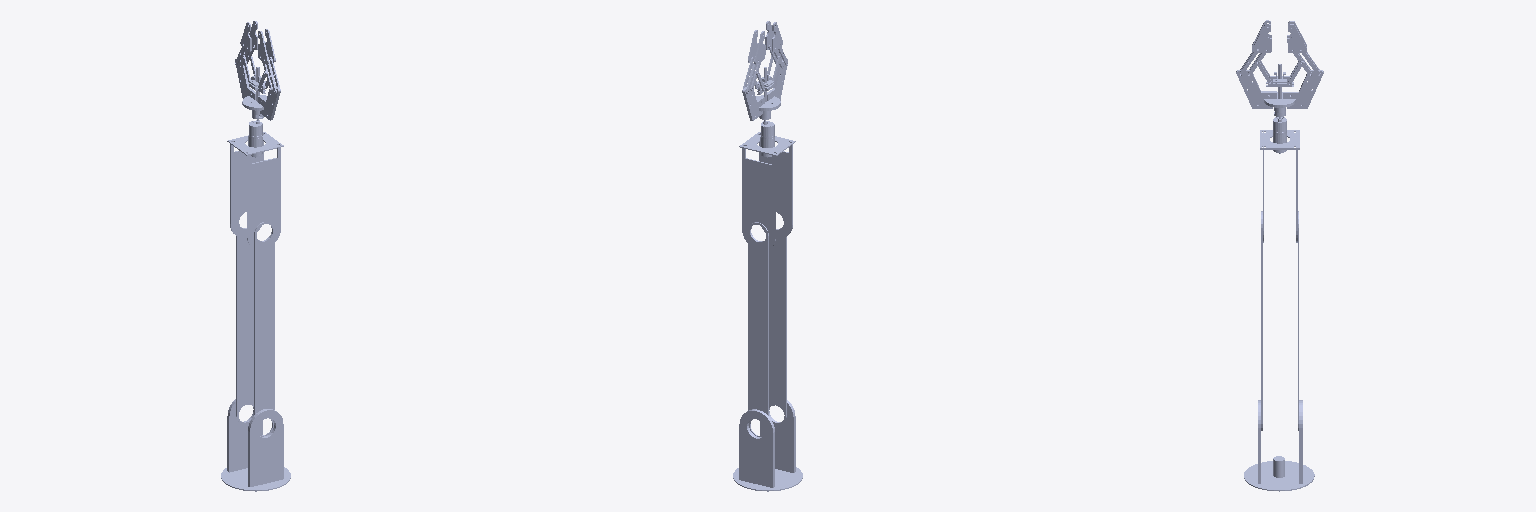
robot.urdf — rover_arm_moveit:

<robot
  name="rover_arm_moveit">
  <link
    name="base_link">
    <inertial>
      <origin
        xyz="-2.7756E-17 0 0.025"
        rpy="0 0 0" />
      <mass
        value="0.035343" />
      <inertia
        ixx="9.3511E-06"
        ixy="0"
        ixz="-2.5612E-38"
        iyy="9.3511E-06"
        iyz="1.1715E-37"
        izz="3.9761E-06" />
    </inertial>
    <visual>
      <origin
        xyz="0 0 0"
        rpy="0 0 0" />
      <geometry>
        <mesh
          filename="package://rover_arm_moveit/meshes/base_link.STL" />
      </geometry>
      <material
        name="">
        <color
          rgba="0.79216 0.81961 0.93333 1" />
      </material>
    </visual>
    <collision>
      <origin
        xyz="0 0 0"
        rpy="0 0 0" />
      <geometry>
        <mesh
          filename="package://rover_arm_moveit/meshes/base_link.STL" />
      </geometry>
    </collision>
  </link>
  <link
    name="link1">
    <inertial>
      <origin
        xyz="-3.747E-15 0.0022773 0.077122"
        rpy="0 0 0" />
      <mass
        value="0.41924" />
      <inertia
        ixx="0.0012798"
        ixy="1.0757E-18"
        ixz="9.3599E-19"
        iyy="0.0015952"
        iyz="3.9689E-19"
        izz="0.00059701" />
    </inertial>
    <visual>
      <origin
        xyz="0 0 0"
        rpy="0 0 0" />
      <geometry>
        <mesh
          filename="package://rover_arm_moveit/meshes/link1.STL" />
      </geometry>
      <material
        name="">
        <color
          rgba="0.79216 0.81961 0.93333 1" />
      </material>
    </visual>
    <collision>
      <origin
        xyz="0 0 0"
        rpy="0 0 0" />
      <geometry>
        <mesh
          filename="package://rover_arm_moveit/meshes/link1.STL" />
      </geometry>
    </collision>
  </link>
  <joint
    name="link1_joint"
    type="revolute">
    <origin
      xyz="0 -0.00021988 0"
      rpy="0 0 0" />
    <parent
      link="base_link" />
    <child
      link="link1" />
    <axis
      xyz="0 0 1" />
    <limit
      lower="-3.2"
      upper="3.2"
      effort="10.5"
      velocity="2.5" />
  </joint>
  <link
    name="link2">
    <inertial>
      <origin
        xyz="-2.8588E-15 -0.046 0.275"
        rpy="0 0 0" />
      <mass
        value="0.1914" />
      <inertia
        ixx="0.0046114"
        ixy="2.0737E-19"
        ixz="2.9287E-20"
        iyy="0.0046708"
        iyz="-3.3087E-22"
        izz="5.9679E-05" />
    </inertial>
    <visual>
      <origin
        xyz="0 0 0"
        rpy="0 0 0" />
      <geometry>
        <mesh
          filename="package://rover_arm_moveit/meshes/link2.STL" />
      </geometry>
      <material
        name="">
        <color
          rgba="0.79216 0.81961 0.93333 1" />
      </material>
    </visual>
    <collision>
      <origin
        xyz="0 0 0"
        rpy="0 0 0" />
      <geometry>
        <mesh
          filename="package://rover_arm_moveit/meshes/link2.STL" />
      </geometry>
    </collision>
  </link>
  <joint
    name="link2_joint"
    type="revolute">
    <origin
      xyz="0 0.04872 0.16"
      rpy="0 0 0" />
    <parent
      link="link1" />
    <child
      link="link2" />
    <axis
      xyz="0 -1 0" />
    <limit
      lower="-3.2"
      upper="3.2"
      effort="10.5"
      velocity="2.5" />
  </joint>
  <link
    name="link3">
    <inertial>
      <origin
        xyz="0.000814999246457893 -0.042709811887764 0.171512812855186"
        rpy="0 0 0" />
      <mass
        value="0.334746404914452" />
      <inertia
        ixx="0.00101227160012089"
        ixy="-1.0571975318945E-08"
        ixz="-5.29394672439346E-07"
        iyy="0.0011805187783924"
        iyz="-1.54971874790944E-12"
        izz="0.000248673620348846" />
    </inertial>
    <visual>
      <origin
        xyz="0 0 0"
        rpy="0 0 0" />
      <geometry>
        <mesh
          filename="package://rover_arm_moveit/meshes/link3.STL" />
      </geometry>
      <material
        name="">
        <color
          rgba="0.792156862745098 0.819607843137255 0.933333333333333 1" />
      </material>
    </visual>
    <collision>
      <origin
        xyz="0 0 0"
        rpy="0 0 0" />
      <geometry>
        <mesh
          filename="package://rover_arm_moveit/meshes/link3.STL" />
      </geometry>
    </collision>
  </link>
  <joint
    name="link3_joint"
    type="revolute">
    <origin
      xyz="0 -0.0035 0.55"
      rpy="0 0 0" />
    <parent
      link="link2" />
    <child
      link="link3" />
    <axis
      xyz="0 1 0" />
    <limit
      lower="-3.2"
      upper="3.2"
      effort="10.5"
      velocity="2.5" />
  </joint>
  <link
    name="link4">
    <inertial>
      <origin
        xyz="9.7368E-08 -0.00021194 0.064976"
        rpy="0 0 0" />
      <mass
        value="0.20212" />
      <inertia
        ixx="0.0001735"
        ixy="-5.5684E-08"
        ixz="1.5788E-19"
        iyy="0.0001153"
        iyz="1.0151E-07"
        izz="7.75E-05" />
    </inertial>
    <visual>
      <origin
        xyz="0 0 0"
        rpy="0 0 0" />
      <geometry>
        <mesh
          filename="package://rover_arm_moveit/meshes/link4.STL" />
      </geometry>
      <material
        name="">
        <color
          rgba="0.79216 0.81961 0.93333 1" />
      </material>
    </visual>
    <collision>
      <origin
        xyz="0 0 0"
        rpy="0 0 0" />
      <geometry>
        <mesh
          filename="package://rover_arm_moveit/meshes/link4.STL" />
      </geometry>
    </collision>
  </link>
  <joint
    name="link4_joint"
    type="revolute">
    <origin
      xyz="0.007 -0.043 0.3523"
      rpy="0 0 0" />
    <parent
      link="link3" />
    <child
      link="link4" />
    <axis
      xyz="0 0 1" />
    <limit
      lower="-3.2"
      upper="3.2"
      effort="10.5"
      velocity="2.5" />
  </joint>
  <link name="ee_link">
    <inertial>
      <origin xyz="-5.2708E-14 1.4855E-13 -0.067388" rpy="0 0 0" />
      <mass value="0.0068368" />
      <inertia ixx="1.007E-05" ixy="-4.9293E-23" ixz="-2.6959E-20" iyy="1.007E-05" iyz="-1.8013E-20" izz="6.7149E-08" />
    </inertial>
    <visual>
      <origin xyz="0 0 0" rpy="0 0 0" />
      <geometry>
        <mesh filename="package://rover_arm_moveit/meshes/ee_link.STL" />
      </geometry>
      <material name=""><color rgba="0.79216 0.81961 0.93333 1" /></material>
    </visual>
    <collision>
      <origin xyz="0 0 0" rpy="0 0 0" />
      <geometry>
        <mesh filename="package://rover_arm_moveit/meshes/ee_link.STL" />
      </geometry>
    </collision>
  </link>
  
  <joint name="ee_joint" type="fixed">
    <origin xyz="0 0 0.0965" rpy="0 0 0" />
    <parent link="link4" />
    <child link="ee_link" />
    <axis xyz="0 0 0" />
    <limit lower="0" upper="0" effort="10" velocity="0" />
  </joint>

  <!-- Rotational Joints for End Effector -->

  <link name="ee_rotation_x" />
  <joint name="ee_rotation_joint_x" type="revolute">
    <origin xyz="0 0 0" rpy="0 0 0" />
    <parent link="ee_link" />
    <child link="ee_rotation_x" />
    <axis xyz="1 0 0" />
    <limit lower="-3.14159" upper="3.14159" effort="5" velocity="1" />
  </joint>

  <link name="ee_rotation_y" />
  <joint name="ee_rotation_joint_y" type="revolute">
    <origin xyz="0 0 0" rpy="0 0 0" />
    <parent link="ee_rotation_x" />
    <child link="ee_rotation_y" />
    <axis xyz="0 1 0" />
    <limit lower="-3.14159" upper="3.14159" effort="5" velocity="1" />
  </joint>

  <link name="ee_rotation_z" />
  <joint name="ee_rotation_joint_z" type="revolute">
    <origin xyz="0 0 0" rpy="0 0 0" />
    <parent link="ee_rotation_y" />
    <child link="ee_rotation_z" />
    <axis xyz="0 0 1" />
    <limit lower="-3.14159" upper="3.14159" effort="5" velocity="1" />
  </joint>

  <!-- Final End Effector Link -->

  <link name="robot_ee" />
  <joint name="robot_ee_joint" type="fixed">
    <origin xyz="0 0 0" rpy="0 0 0" />
    <parent link="ee_rotation_z" />
    <child link="robot_ee" />
    <axis xyz="0 0 0" />
    <limit lower="0" upper="0" effort="0" velocity="0" />
  </joint>
</robot>

--- What the picture shows (computed from the rendered views, not written in the file) ---
Views: 3 orthographic renders of the robot side by side, from view 1: azimuth 30°, elevation 25°; view 2: azimuth 150°, elevation 25°; view 3: azimuth 270°, elevation 25°.
Robot: rover_arm_moveit — 10 links, 9 joints (7 revolute, 2 fixed); root link base_link; default pose: all joints at 0.
Links seen in each view (by area): view 1: link2, link3, link1, link4; view 2: link2, link3, link1, link4; view 3: link4, link1, link3, link2.
Link boxes in pixels (bbox=[...]): link2: bbox=[236, 222, 274, 436]; link3: bbox=[227, 103, 283, 248]; link1: bbox=[221, 399, 290, 491]; link4: bbox=[235, 21, 280, 120]; link2: bbox=[748, 222, 786, 436]; link3: bbox=[739, 104, 795, 248]; link1: bbox=[733, 400, 802, 491]; link4: bbox=[742, 21, 787, 120]; link4: bbox=[1236, 20, 1323, 108]; link1: bbox=[1244, 400, 1314, 491]; link3: bbox=[1260, 101, 1299, 242]; link2: bbox=[1261, 211, 1298, 430].
Bounding box of the posed robot: 0.18 × 0.2219 × 1.28 m (x, y, z).
Meshes: 6 distinct files referenced, 6 mesh visuals loaded (6 binary STL).